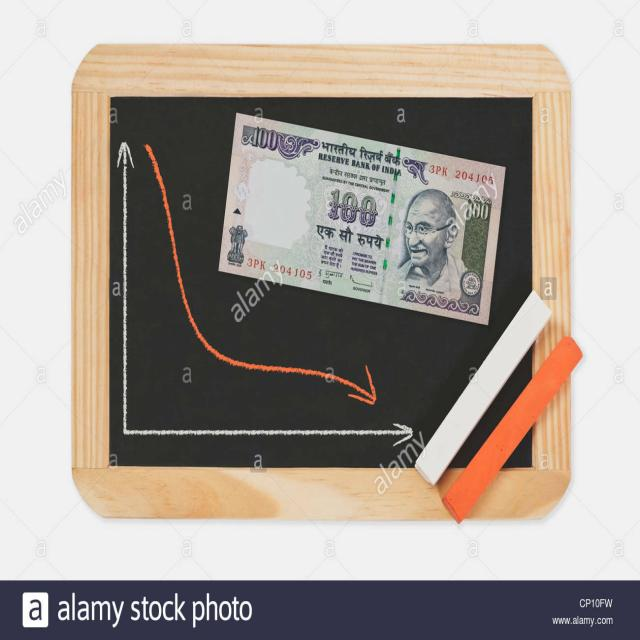100IndianRupees: (216, 114, 502, 320)
